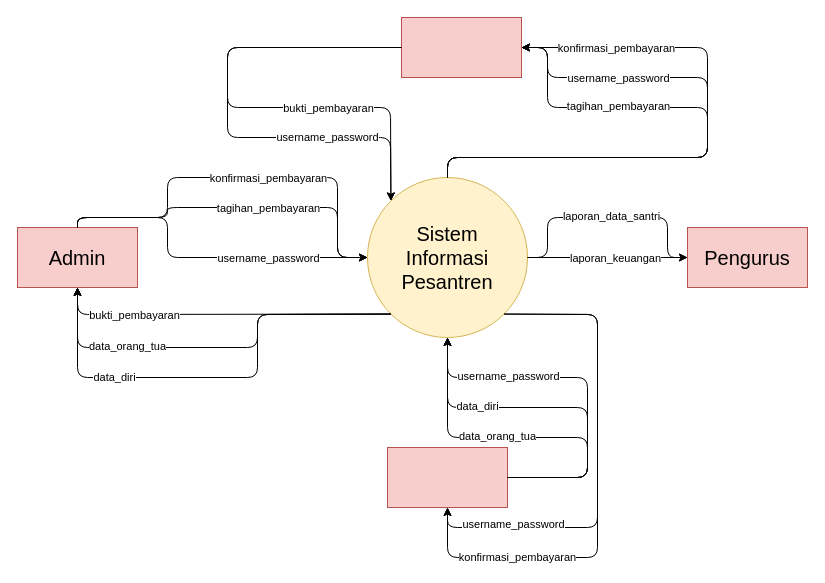
This 825x583 diagram has some shape labels left out. The box of each missing label's shape, as (x1, y1, x2, y2) in pixels:
Orang_tua: (400, 16, 522, 78)
Santri: (386, 446, 508, 508)
